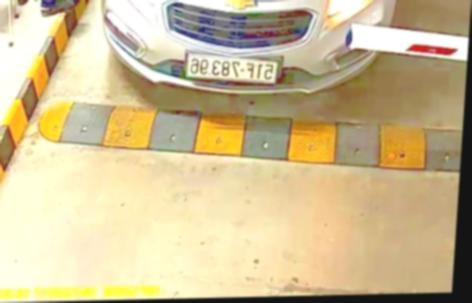License_Plate: (183, 49, 281, 88)
